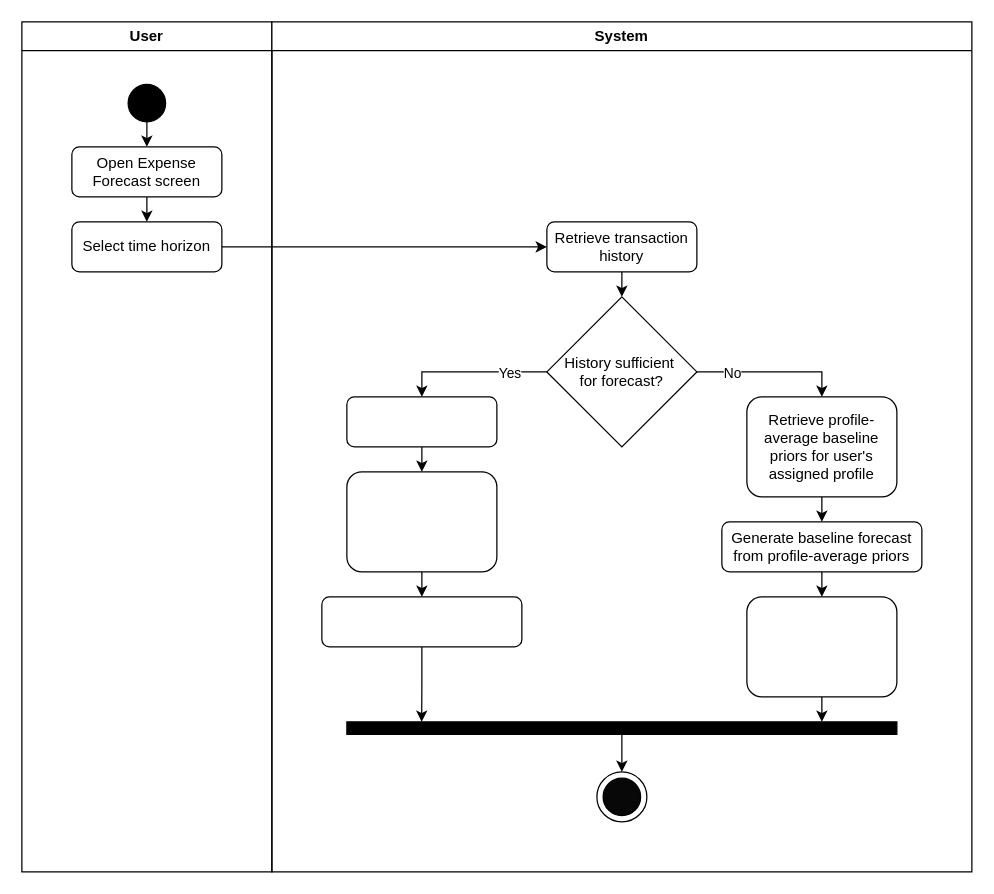
Image size: 994x894. Some labels were removed from this diagram. The shapes that lost their labels are listed below. From the top down, each one's centre as x and y in pixels, then its label:
point 421,421: Run LSTM model on transaction history
point 421,521: Generate per-category and total expense forecast for selected horizon
point 421,621: Display personalized forecast with per-category breakdown
point 821,646: Display baseline forecast with visible "Not yet personalized" indicator
